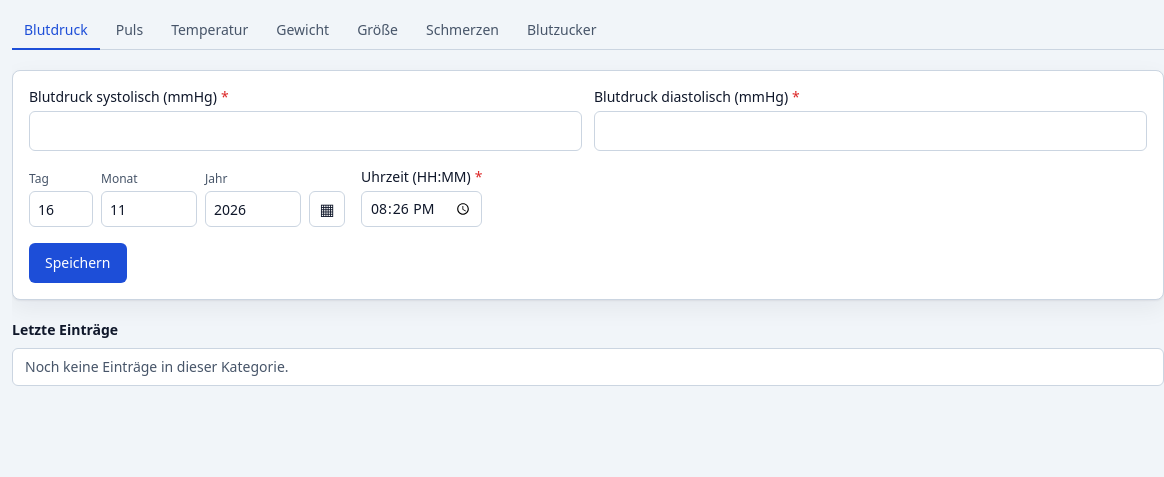
it: VitalwertePanel › keeps the typed values and shows field errors when the save fails
Type "120" into the field with id "entry-systolic".
click(306, 131); type("120")  # box top-left (29, 111), bottom-right (582, 151)
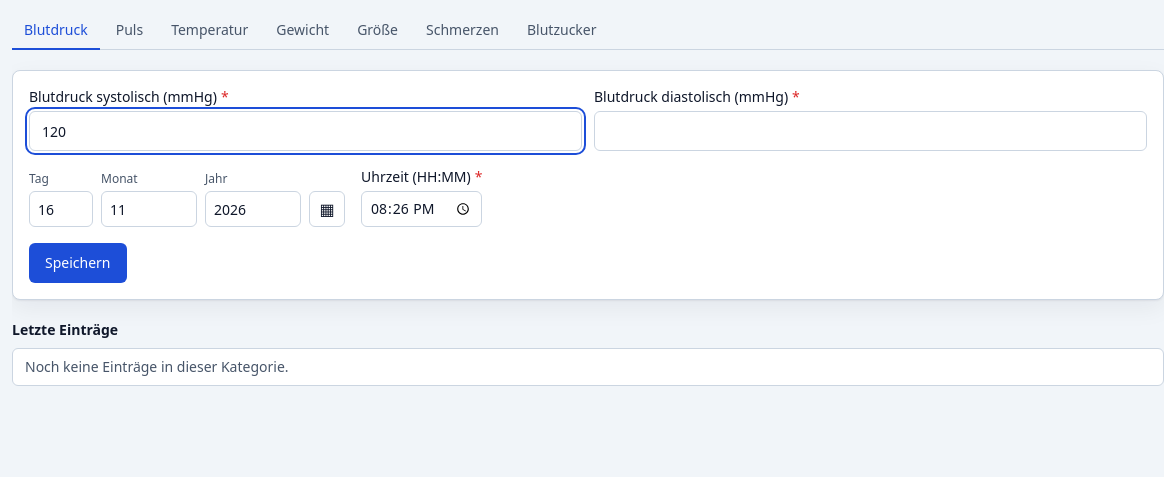
Click the button "Speichern".
click(78, 263)  # box top-left (29, 243), bottom-right (126, 283)
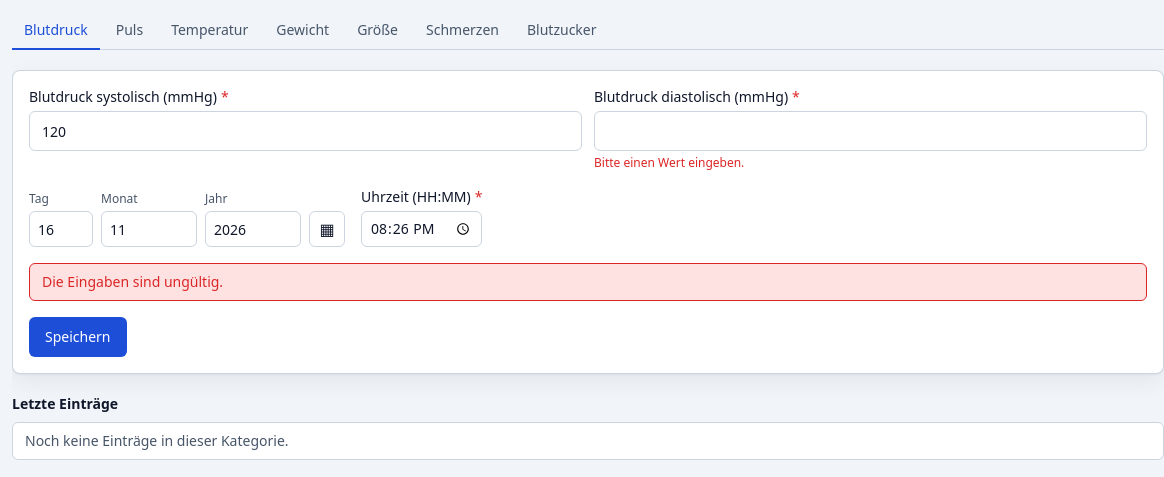
Expected: the text "Bitte einen Wert eingeben." is shown, top-left (594, 154), bottom-right (744, 171)
